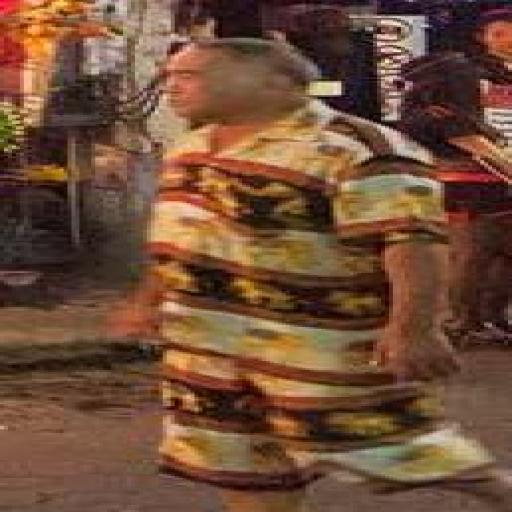person: (112, 40, 511, 511), (401, 9, 511, 343)
